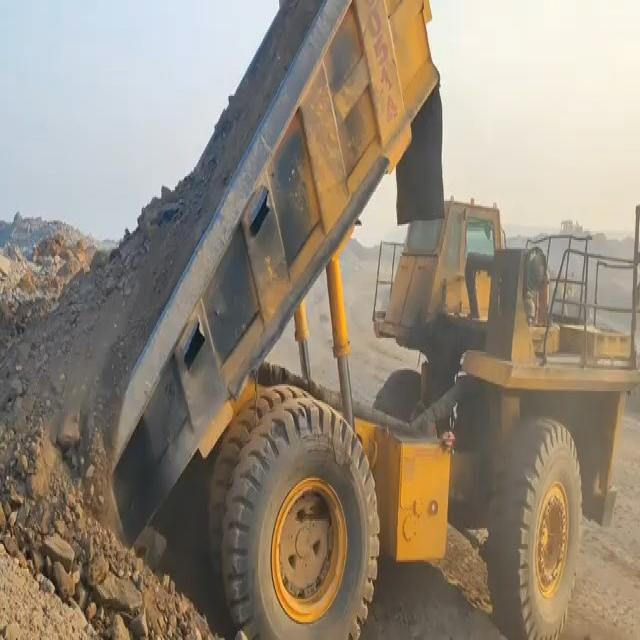dump_truck: (113, 0, 640, 640)
